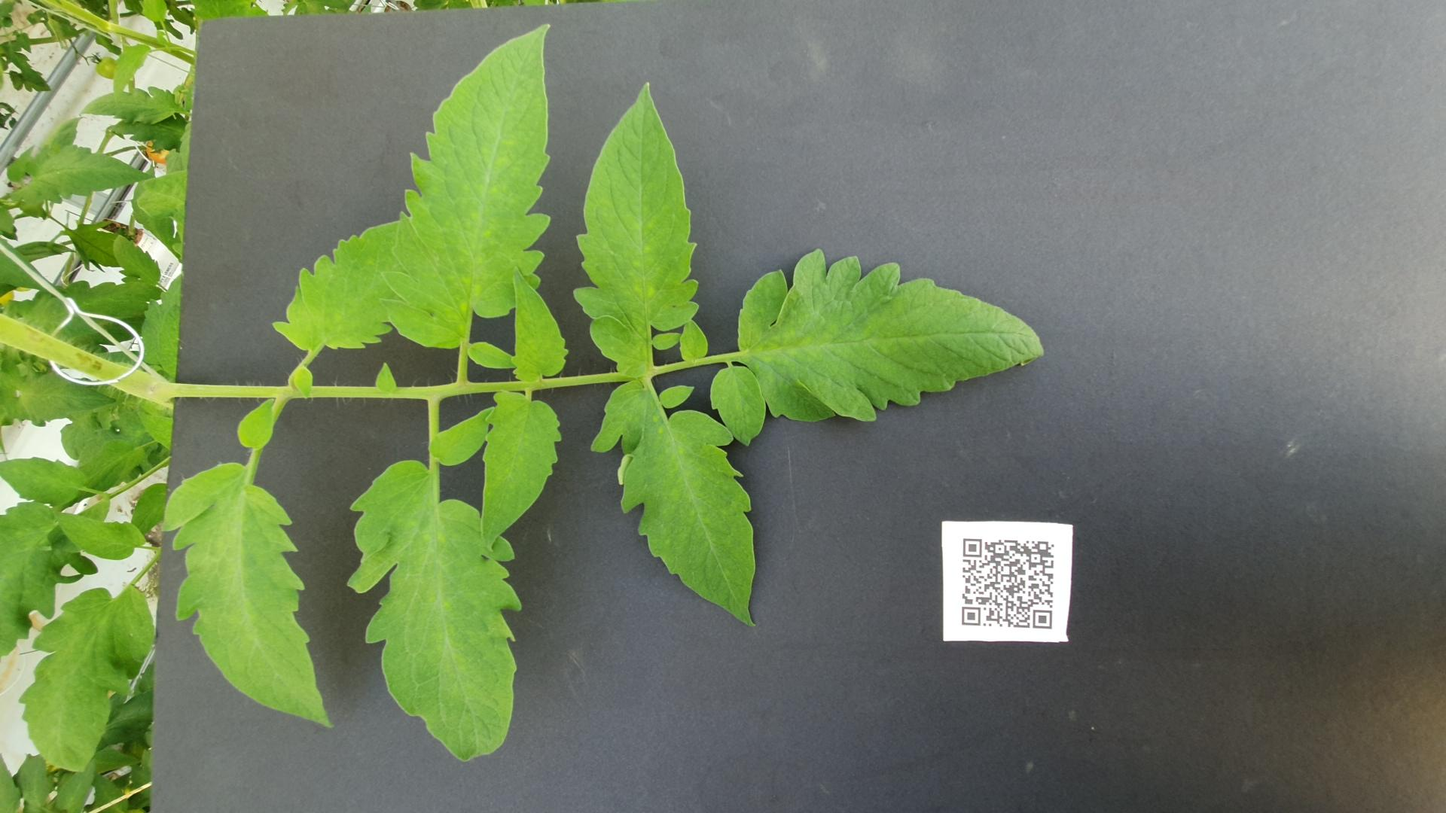Healthy: (823, 212, 1415, 311), (690, 413, 1006, 590), (90, 194, 626, 291), (154, 91, 626, 190), (332, 331, 774, 427), (777, 324, 1303, 394), (73, 8, 406, 88), (813, 151, 1057, 228), (463, 268, 755, 318), (1078, 3, 1193, 86), (767, 286, 973, 320), (450, 28, 539, 83), (693, 10, 782, 65), (656, 399, 797, 432), (548, 0, 637, 51), (1223, 43, 1294, 101), (615, 240, 723, 278), (1259, 61, 1371, 86), (939, 63, 1029, 92)
